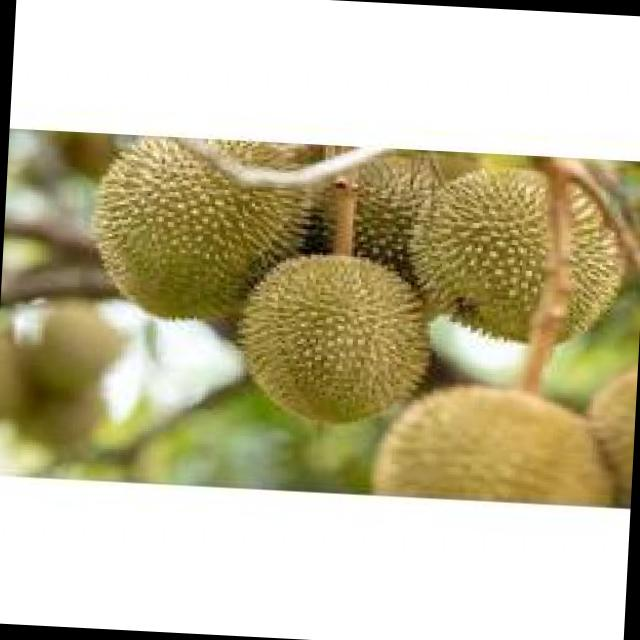fruit: (76, 130, 338, 348), (212, 230, 453, 443), (395, 152, 566, 365)
